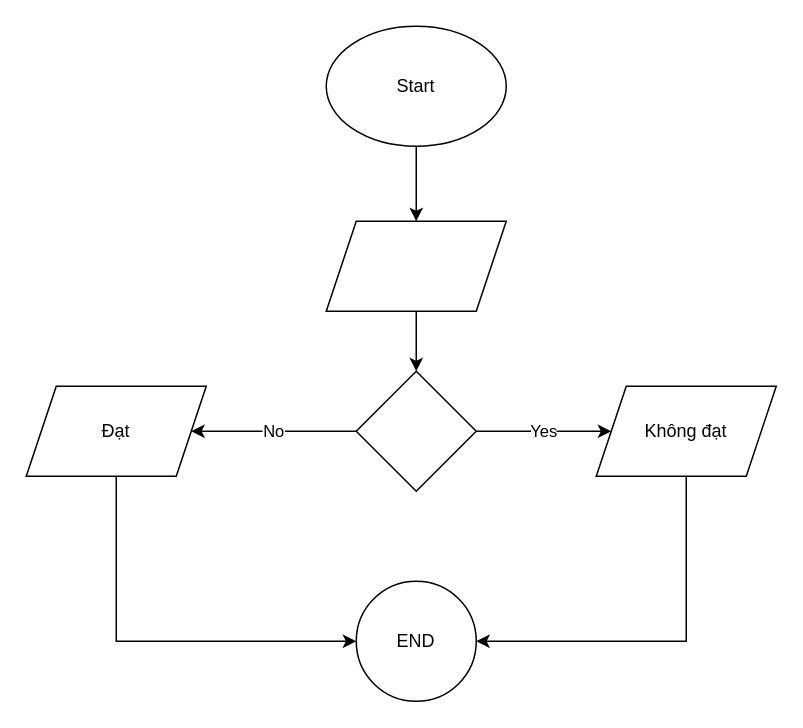
The diagram is 803 pixels wide and 728 high, and some of its shapes have lost their labels. The centre of each missing label's shape, as x and y in pixels:
"n > 5" belongs at pixel 415 430.
"Nhập sô điểm: n" belongs at pixel 415 265.
